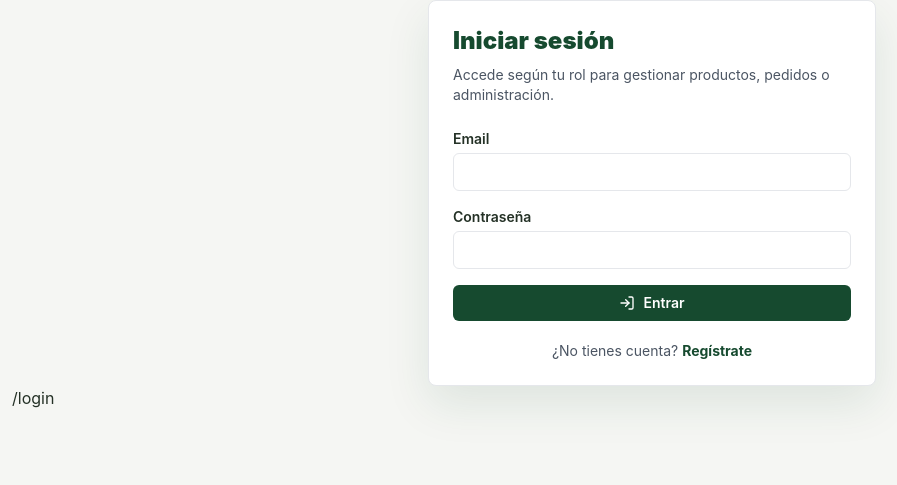
Scenario: Login › muestra un error con credenciales inválidas
Type "comprador1@agrotech.com" into the field labelled "Email" at (652, 172), box [453,153,851,191]
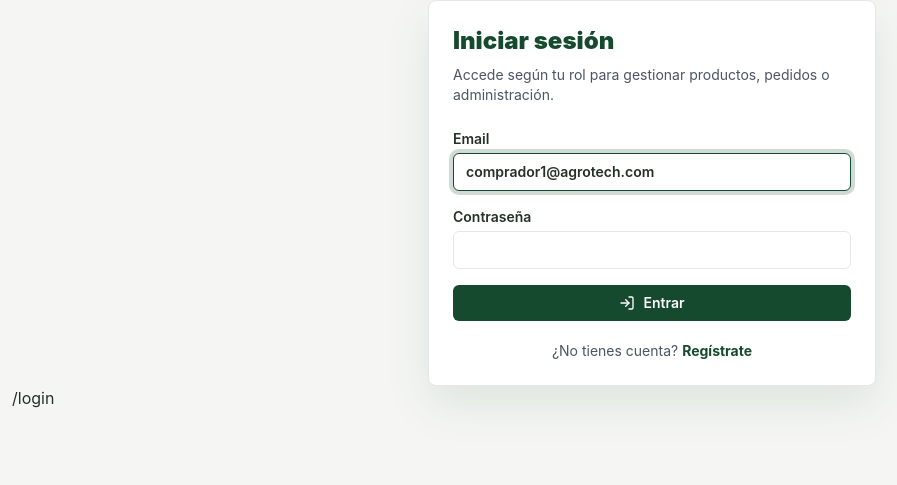
Type "mala" into the password field labelled "Contraseña" at (652, 250), box [453,231,851,269]
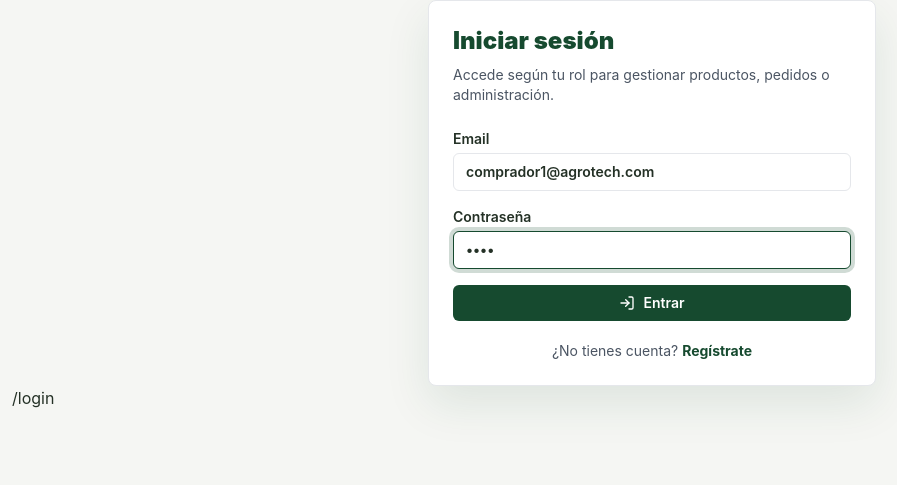
Click the button "Entrar" at (652, 303), box [453,285,851,321]
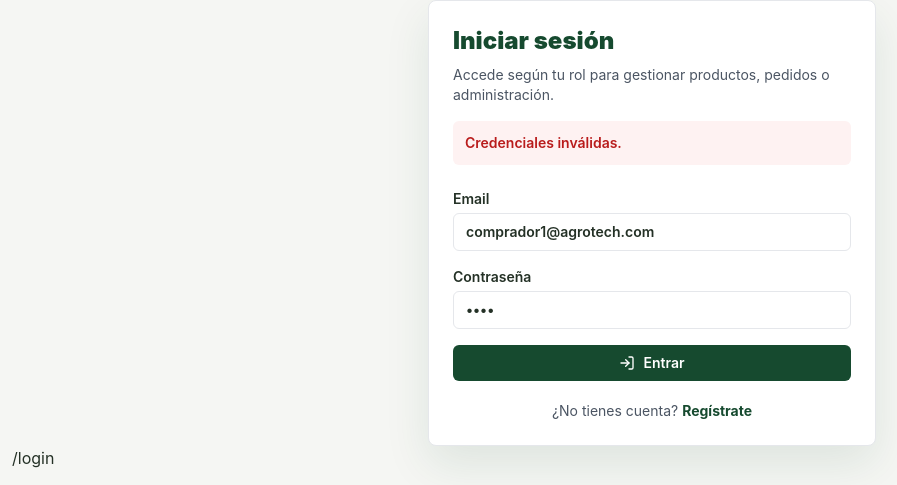
Expected: the text with test id "location" reads "/login", [12,448,54,468]
Now the text "Credenciales inválidas." is shown, box [453,121,851,165]
